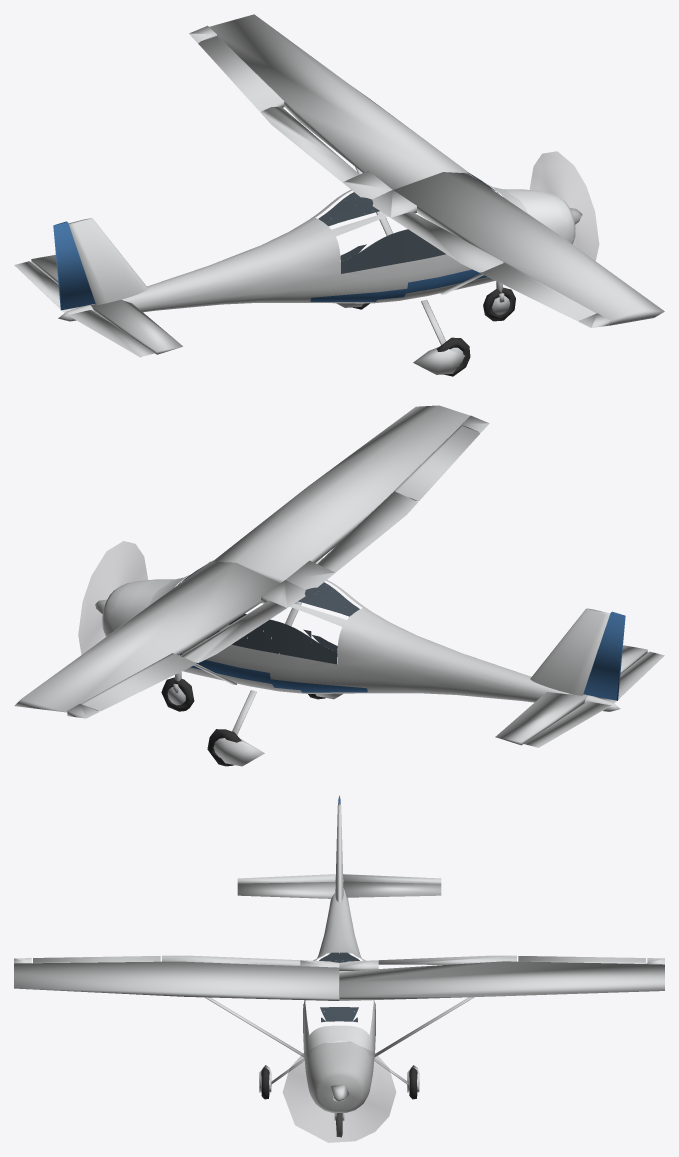
Rendered from wren_lod2.glb.
The picture shows the model from 3 angles, top to bottom: view 1: azimuth 30°, elevation 25°; view 2: azimuth 150°, elevation 25°; view 3: azimuth 270°, elevation 25°; orthographic projection. The views are drawn at different scales.
Visible parts, largest first — view 1: fuselage, wing_L, wing_R, glass, fin, prop_1_disc, stabilizer, rudder, aileron_L, flap_R_1, flap_L_1, elevator (+3 smaller); view 2: fuselage, wing_R, wing_L, glass, fin, prop_1_disc, stabilizer, flap_R_1, rudder, aileron_R, aileron_L, elevator (+3 smaller); view 3: wing_R, wing_L, prop_1_disc, fuselage, stabilizer, elevator, flap_L_1, flap_R_1, glass, aileron_L, aileron_R, fin.
Boxes of the visible parts, <box> form: fuselage: <box>58,184,575,321</box>; wing_L: <box>189,14,467,199</box>; wing_R: <box>372,172,664,327</box>; glass: <box>318,172,499,273</box>; fin: <box>68,218,148,305</box>; prop_1_disc: <box>530,151,598,260</box>; stabilizer: <box>31,255,182,354</box>; rudder: <box>53,221,95,310</box>; aileron_L: <box>198,35,284,111</box>; flap_R_1: <box>391,211,503,272</box>; flap_L_1: <box>260,107,359,182</box>; elevator: <box>14,261,154,357</box>; fuselage: <box>102,575,620,711</box>; wing_R: <box>213,405,489,589</box>; wing_L: <box>14,561,305,718</box>; glass: <box>178,561,359,664</box>; fin: <box>530,608,609,695</box>; prop_1_disc: <box>78,541,147,654</box>; stabilizer: <box>495,645,647,745</box>; flap_R_1: <box>317,491,417,572</box>; rudder: <box>583,611,625,700</box>; aileron_R: <box>394,425,480,501</box>; aileron_L: <box>81,653,196,711</box>; elevator: <box>523,651,664,747</box>; wing_R: <box>14,958,339,1000</box>; wing_L: <box>339,958,664,1000</box>; prop_1_disc: <box>283,1042,395,1142</box>; fuselage: <box>303,880,375,1113</box>; stabilizer: <box>237,881,441,898</box>; elevator: <box>237,874,441,883</box>; flap_L_1: <box>378,955,516,964</box>; flap_R_1: <box>162,955,300,965</box>; glass: <box>303,952,375,1035</box>; aileron_L: <box>518,956,645,963</box>; aileron_R: <box>33,956,160,963</box>; fin: <box>335,803,343,902</box>.
Bounding box in the file's own units: 8.35 × 3.07 × 11.
